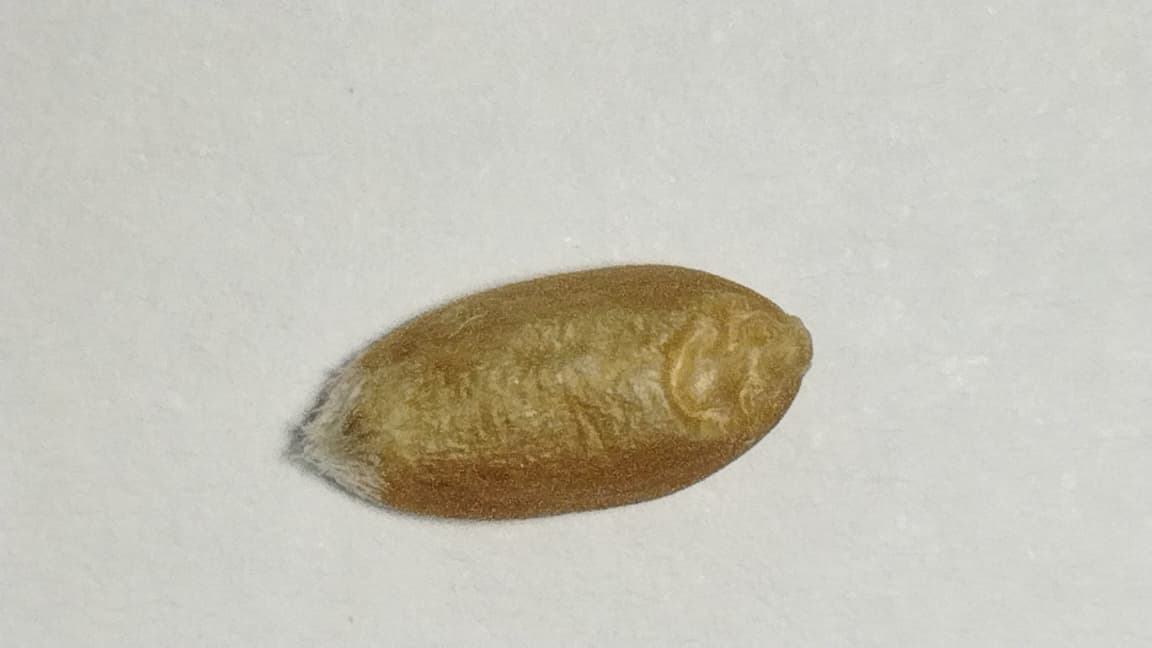healthy: (298, 265, 810, 518)
